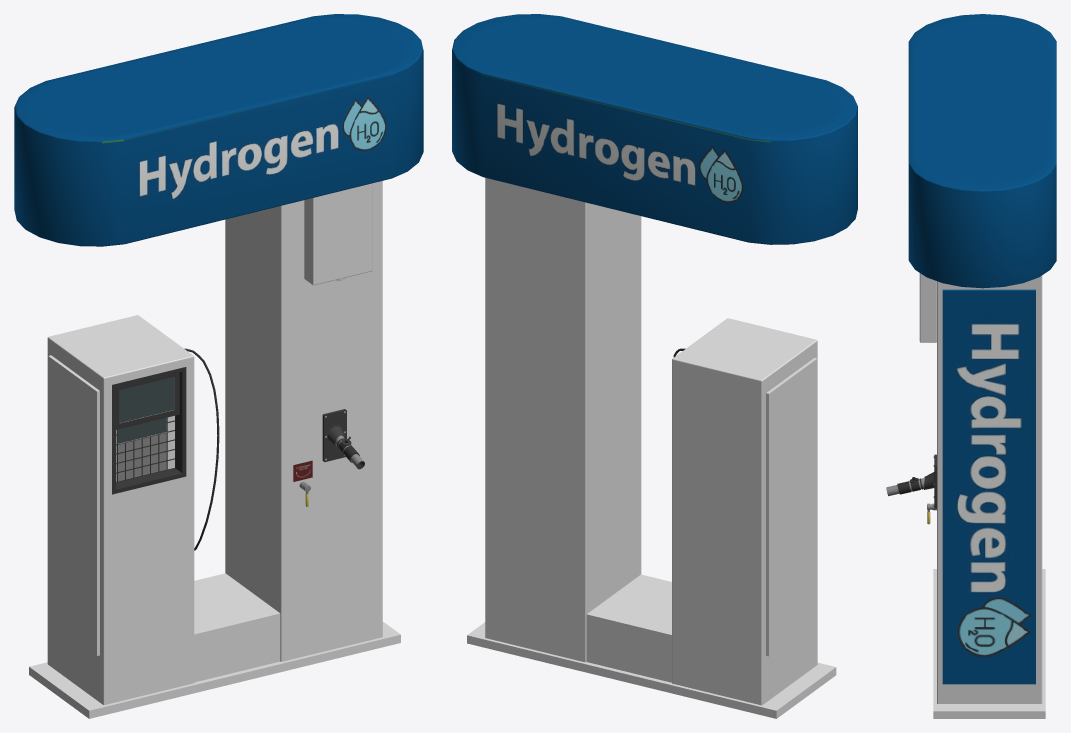
File: HydrogenFuelTank.fbx
3 views of the same model, side by side, from view 1: azimuth 30°, elevation 25°; view 2: azimuth 150°, elevation 25°; view 3: azimuth 270°, elevation 25° (orthographic). The views are drawn at different scales.
Parts seen in each view (by area): view 1: Hydrogen_Top, Hydrogen_right, Paymentbox, Poster_Left, Hydrogen_Bottom, Payment_No, Pipe_Holder; view 2: Hydrogen_Top, Hydrogen_right, Paymentbox, Poster_Left, Hydrogen_Bottom; view 3: Hydrogen_Top, Poster_right, Hydrogen_right, Hydrogen_Bottom, Pipe_Distributor, Pipe_Holder.
Part boxes in pixels (box(x1,y1,x2,y2)): Hydrogen_Top: box(14, 14, 423, 246); Hydrogen_right: box(225, 181, 382, 661); Paymentbox: box(47, 315, 194, 704); Poster_Left: box(48, 355, 99, 655); Hydrogen_Bottom: box(29, 573, 400, 718); Payment_No: box(116, 415, 175, 482); Pipe_Holder: box(322, 409, 346, 461); Hydrogen_Top: box(452, 14, 857, 244); Hydrogen_right: box(485, 178, 641, 662); Paymentbox: box(672, 318, 817, 705); Poster_Left: box(766, 358, 817, 656); Hydrogen_Bottom: box(467, 574, 836, 718); Hydrogen_Top: box(908, 14, 1056, 288); Poster_right: box(942, 289, 1035, 684); Hydrogen_right: box(919, 273, 1042, 703); Hydrogen_Bottom: box(933, 569, 1045, 718); Pipe_Distributor: box(886, 478, 924, 496); Pipe_Holder: box(924, 454, 936, 508).
Size of the model in its own units: 291 by 420 by 119.
Materials: 11 (1 with a texture image).
